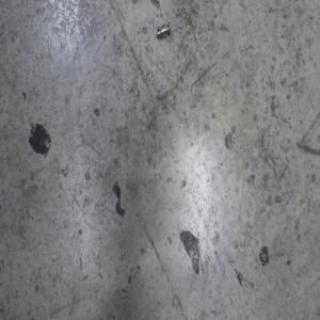Bolttrack_idkeyframe: (154, 20, 170, 40)
